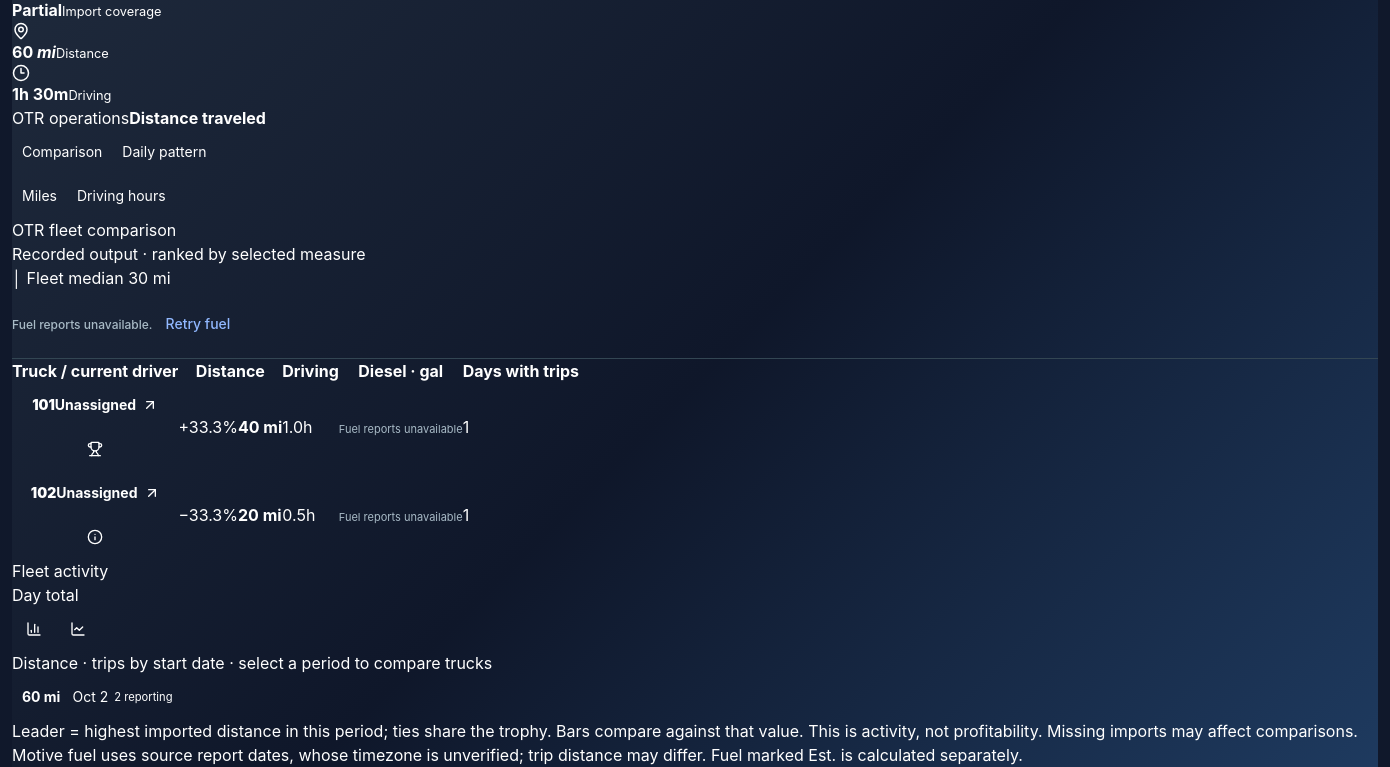
Test: OTR fleet overview › keeps fleet period drilldown aggregated until a truck is selected
(page scrolled)
Click the button "60 mi Oct 2 2 reporting": (97, 697) [12,675,182,719]
(page scrolled)
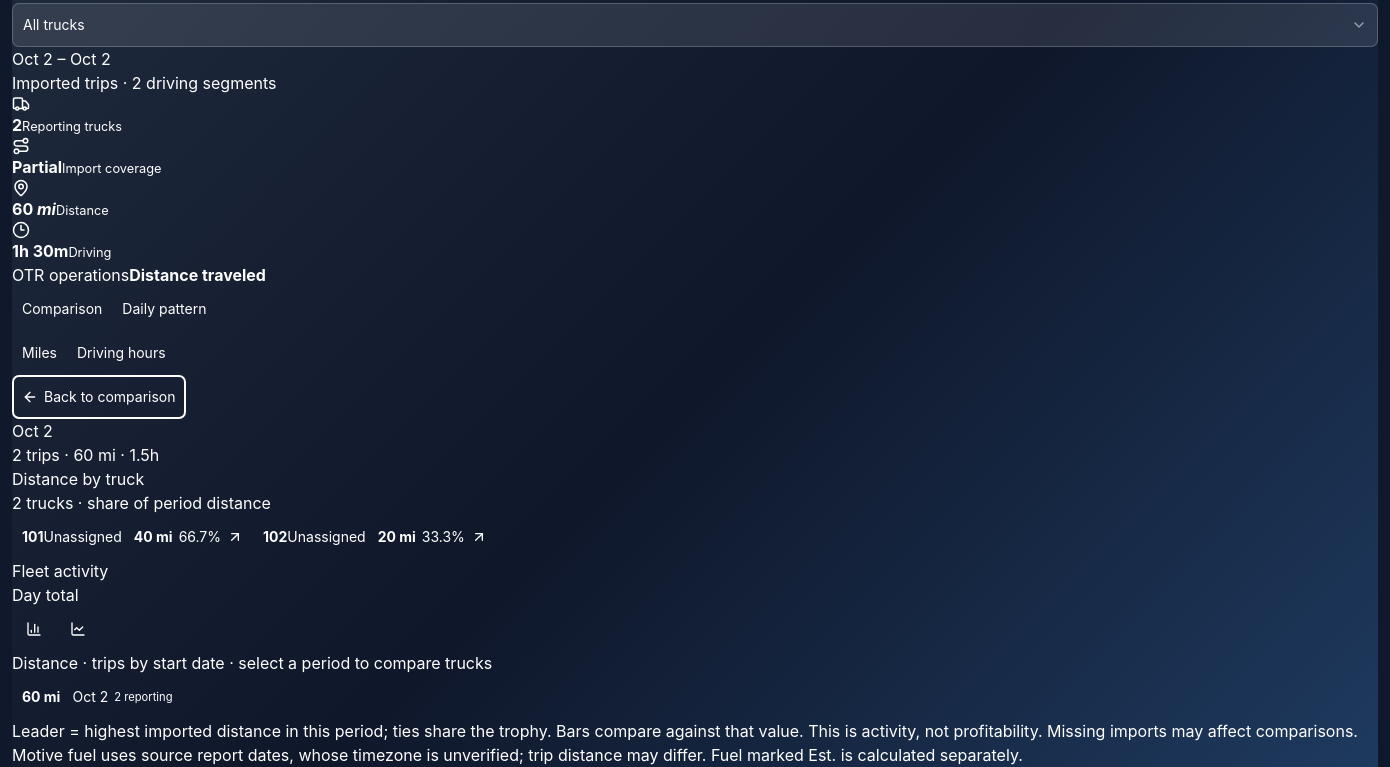
Check: the text "First City, NC" is not shown
Check: the element named "Fleet period breakdown" shows "60 mi", box [12,375,497,559]
Check: the element named "Fleet period breakdown" shows "66.7%"
Click the button "101Unassigned 40 mi 66.7%": (132, 537) [12,515,253,559]
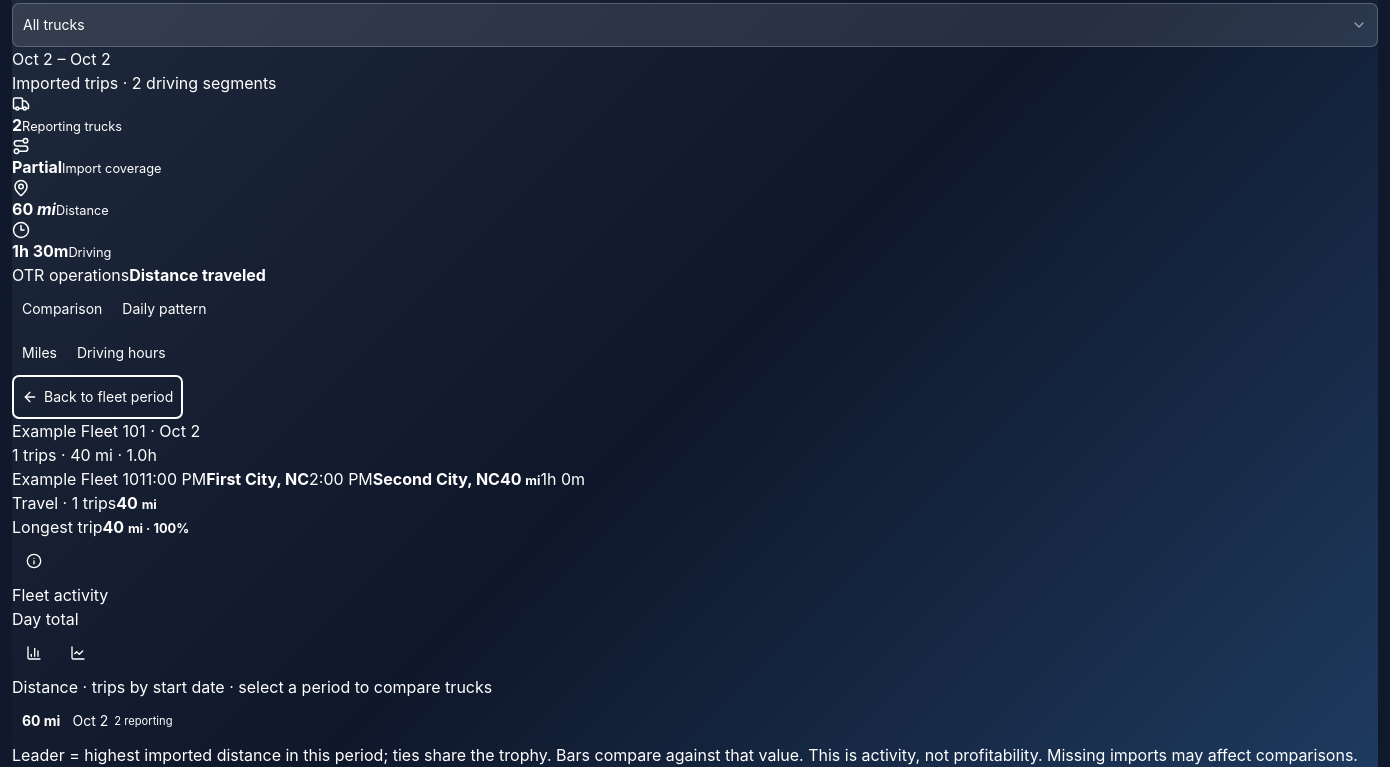
Check: the element named "Selected day routes" shows "First City, NC", box [206,469,309,489]
Click the button "Back to fleet period": (98, 397) [12,375,183,419]
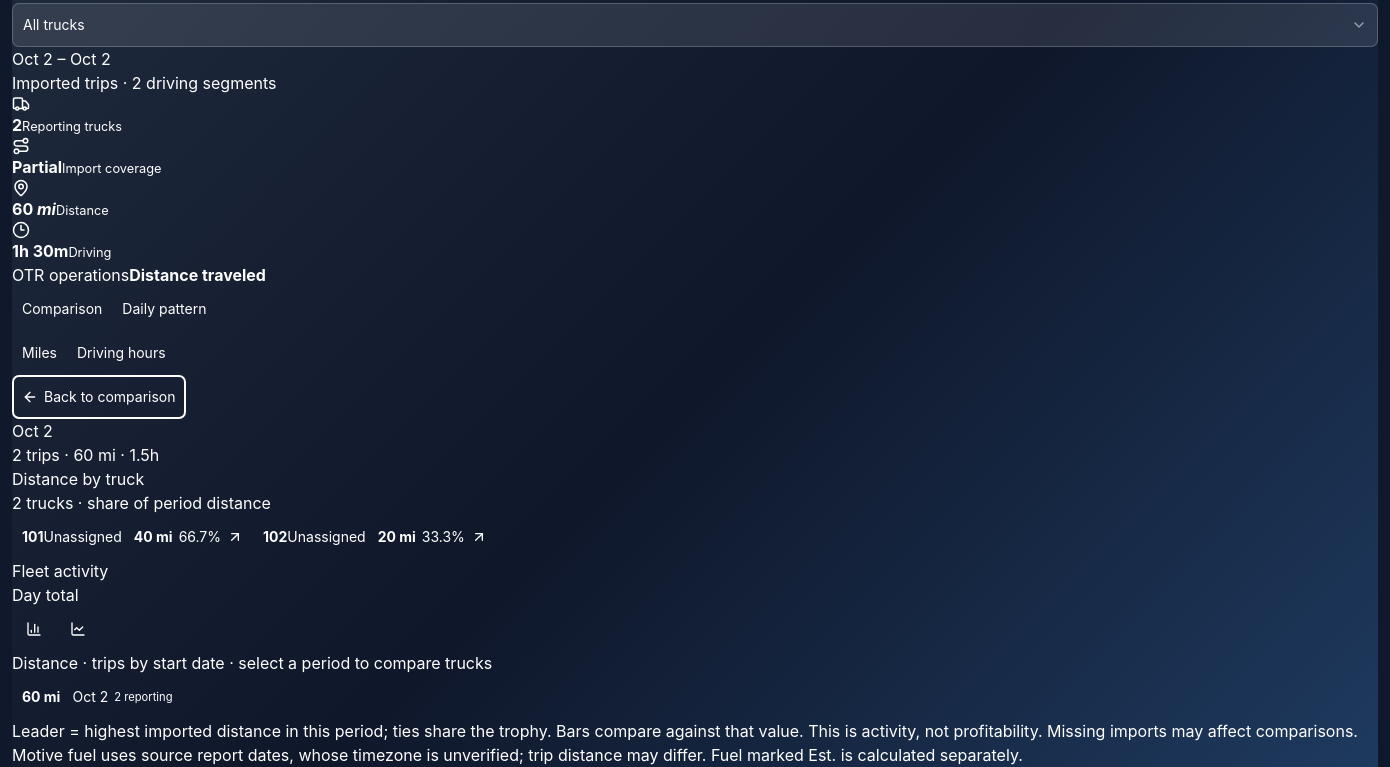
Check: the element named "Fleet period breakdown" shows "60 mi", box [12,375,497,559]
Click the button "Driving hours": (121, 353) [67,331,176,375]
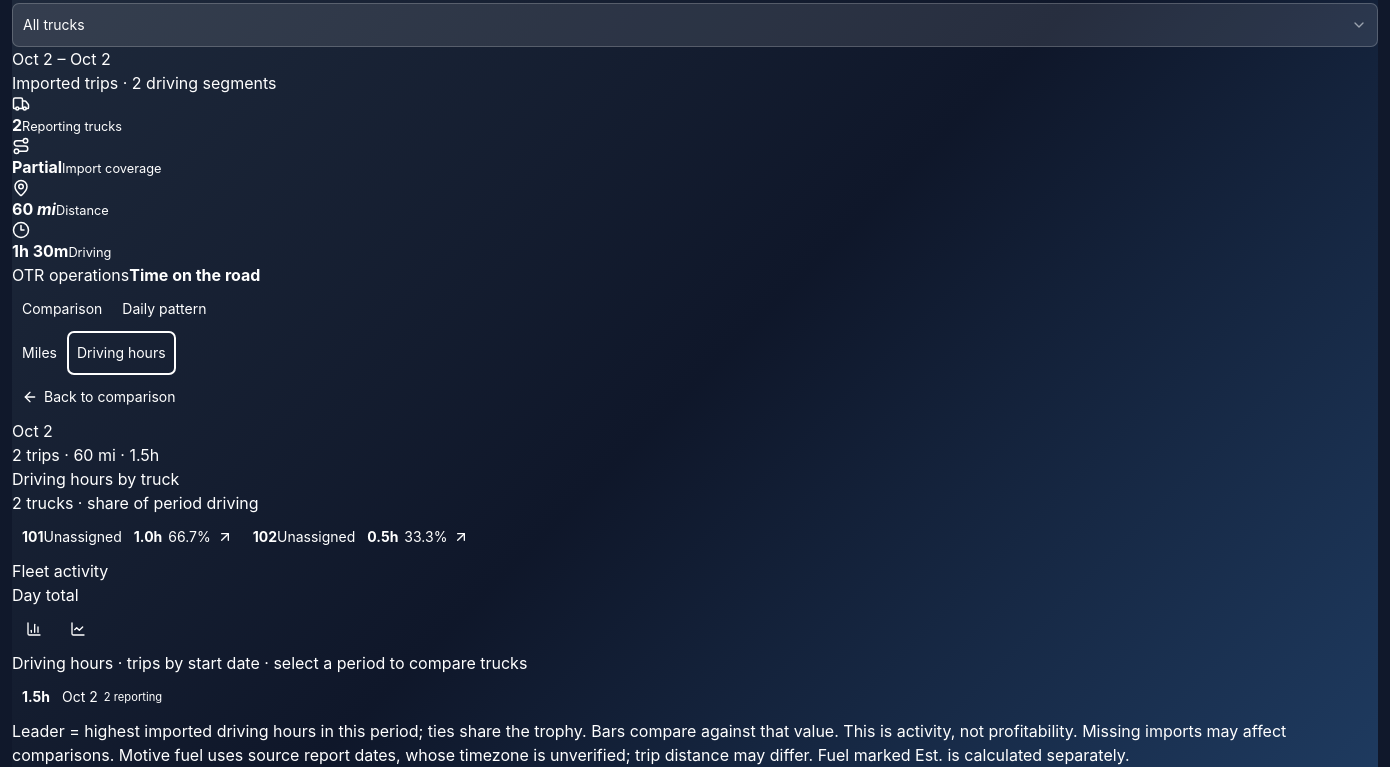
Check: the heading "Driving hours by truck" is shown, box [12,469,179,489]
Check: the button "101Unassigned 1.0h 66.7%" is shown, box [12,515,243,559]
